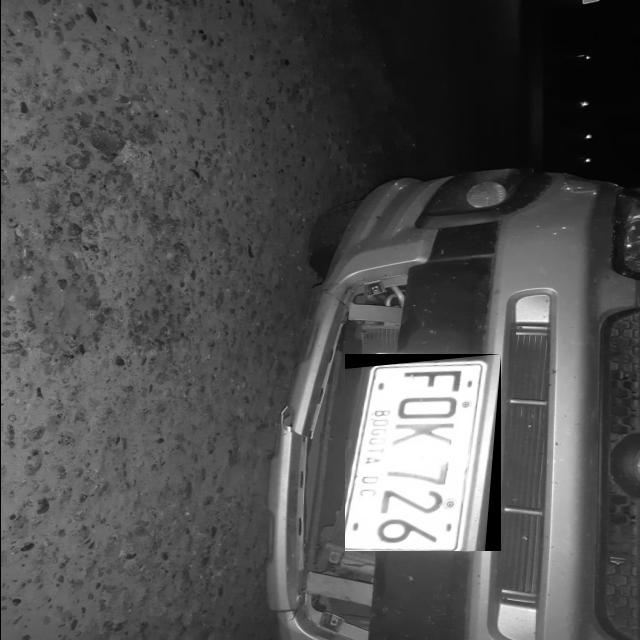plate: (344, 354, 500, 551)
